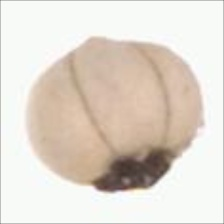L5: (66, 34, 171, 154), (89, 148, 181, 194)
L6: (23, 35, 206, 194)
